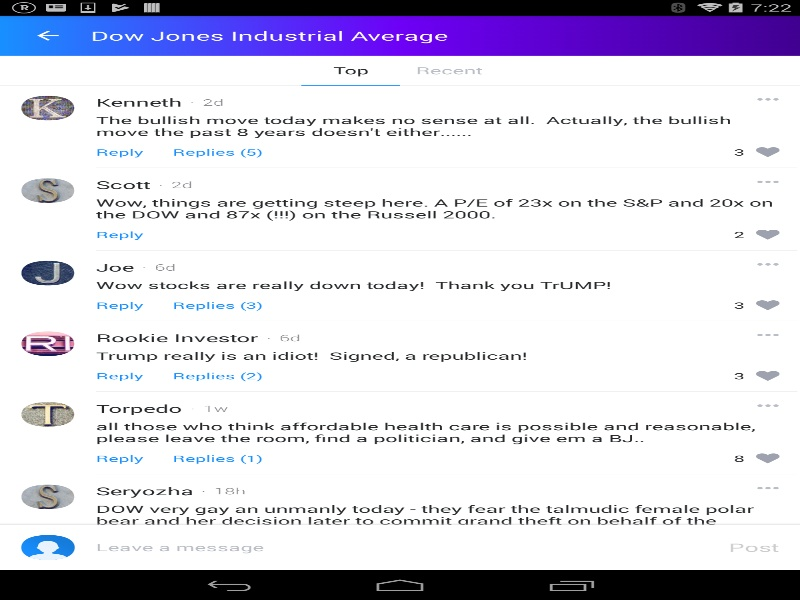Button: (10, 15, 85, 55), (693, 535, 800, 560)
Input: (96, 535, 693, 560)
